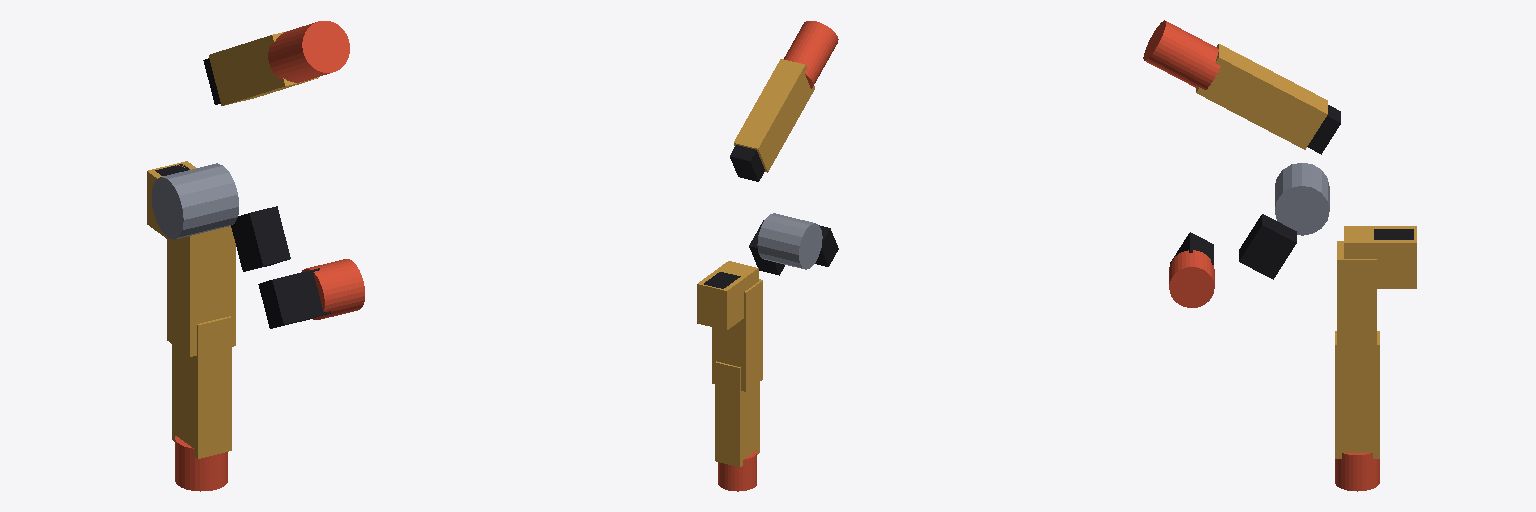
robot.urdf — g0012_c09:
<robot name="g0012_c09">
  <link name="palm">
    <visual name="palm_palm1">
      <origin xyz="0 0 0" rpy="0 0 0" />
      <geometry>
        <mesh filename="palm_palm1.obj" />
      </geometry>
      <material name="palm_palm1_mat">
        <color rgba="0.55 0.57 0.62 1" />
      </material>
    </visual>
    <collision>
      <origin xyz="0 0 0" rpy="0 0 0" />
      <geometry>
        <mesh filename="palm_palm1.obj" />
      </geometry>
    </collision>
    <visual name="palm_mount2">
      <origin xyz="0 0 0" rpy="0 0 0" />
      <geometry>
        <mesh filename="palm_mount2.obj" />
      </geometry>
      <material name="palm_mount2_mat">
        <color rgba="0.55 0.57 0.62 1" />
      </material>
    </visual>
    <collision>
      <origin xyz="0 0 0" rpy="0 0 0" />
      <geometry>
        <mesh filename="palm_mount2.obj" />
      </geometry>
    </collision>
    <visual name="palm_hinge3">
      <origin xyz="0 -0.024910254 -0.0231458256" rpy="1.57079633 -0.523598776 -1.57079633" />
      <geometry>
        <box size="0.029 0.034 0.02" />
      </geometry>
      <material name="palm_hinge3_mat">
        <color rgba="0.15 0.15 0.17 1" />
      </material>
    </visual>
    <collision>
      <origin xyz="0 -0.024910254 -0.0231458256" rpy="1.57079633 -0.523598776 -1.57079633" />
      <geometry>
        <box size="0.029 0.034 0.02" />
      </geometry>
    </collision>
    <visual name="palm_motor4">
      <origin xyz="0 0.00649519053 0.07625" rpy="-1.57079633 -1.04719755 1.57079633" />
      <geometry>
        <box size="0.029 0.034 0.02" />
      </geometry>
      <material name="palm_motor4_mat">
        <color rgba="0.15 0.15 0.17 1" />
      </material>
    </visual>
    <collision>
      <origin xyz="0 0.00649519053 0.07625" rpy="-1.57079633 -1.04719755 1.57079633" />
      <geometry>
        <box size="0.029 0.034 0.02" />
      </geometry>
    </collision>
    <visual name="palm_motor5">
      <origin xyz="-0.0045 0.0665 -0.0325" rpy="1.57079633 1.2246468e-16 -1.57079633" />
      <geometry>
        <box size="0.029 0.034 0.02" />
      </geometry>
      <material name="palm_motor5_mat">
        <color rgba="0.15 0.15 0.17 1" />
      </material>
    </visual>
    <collision>
      <origin xyz="-0.0045 0.0665 -0.0325" rpy="1.57079633 1.2246468e-16 -1.57079633" />
      <geometry>
        <box size="0.029 0.034 0.02" />
      </geometry>
    </collision>
    <inertial>
      <origin xyz="4.24683515e-19 0.013444417 0.0118964191" rpy="1.57079633 0.889539426 1.57079633" />
      <mass value="0.581730318" />
      <inertia ixx="0.000541225816" ixy="0" ixz="0" iyy="0.000952053496" iyz="0" izz="0.0014374332" />
    </inertial>
  </link>
  <link name="palm0">
    <visual name="palm0_palm1">
      <origin xyz="0 0 0" rpy="0 0 0" />
      <geometry>
        <mesh filename="palm0_palm1.obj" />
      </geometry>
      <material name="palm0_palm1_mat">
        <color rgba="0.55 0.57 0.62 1" />
      </material>
    </visual>
    <collision>
      <origin xyz="0 0 0" rpy="0 0 0" />
      <geometry>
        <mesh filename="palm0_palm1.obj" />
      </geometry>
    </collision>
    <visual name="palm0_motor2">
      <origin xyz="-0.007 -0.051339746 -0.0103589838" rpy="1.06057524e-16 -1.04719755 1.57079633" />
      <geometry>
        <box size="0.029 0.034 0.02" />
      </geometry>
      <material name="palm0_motor2_mat">
        <color rgba="0.15 0.15 0.17 1" />
      </material>
    </visual>
    <collision>
      <origin xyz="-0.007 -0.051339746 -0.0103589838" rpy="1.06057524e-16 -1.04719755 1.57079633" />
      <geometry>
        <box size="0.029 0.034 0.02" />
      </geometry>
    </collision>
    <inertial>
      <origin xyz="3.28249081e-20 -0.0268354822 -0.0111418856" rpy="1.57079633 0.206041015 1.57079633" />
      <mass value="0.117598995" />
      <inertia ixx="1.97462929e-05" ixy="0" ixz="0" iyy="6.92094895e-05" iyz="0" izz="7.7666279e-05" />
    </inertial>
  </link>
  <link name="f0_link0">
    <visual name="f0_link0_link1">
      <origin xyz="0.019 0 -6.9388939e-18" rpy="-1.57079633 -0 -1.57079633" />
      <geometry>
        <cylinder radius="0.0165" length="0.029" />
      </geometry>
      <material name="f0_link0_link1_mat">
        <color rgba="0.85 0.35 0.25 1" />
      </material>
    </visual>
    <collision>
      <origin xyz="0.019 0 -6.9388939e-18" rpy="-1.57079633 -0 -1.57079633" />
      <geometry>
        <cylinder radius="0.0165" length="0.029" />
      </geometry>
    </collision>
    <inertial>
      <origin xyz="0.019 0 0" rpy="0 0 0" />
      <mass value="0.0763354" />
      <inertia ixx="9.49466441e-06" ixy="0" ixz="0" iyy="2.24143997e-05" iyz="0" izz="2.24143997e-05" />
    </inertial>
  </link>
  <link name="f1_link0">
    <visual name="f1_link0_link1">
      <origin xyz="0.03375 0 0" rpy="0 7.03853194e-17 0" />
      <geometry>
        <box size="0.0915 0.024 0.033" />
      </geometry>
      <material name="f1_link0_link1_mat">
        <color rgba="0.80 0.62 0.30 1" />
      </material>
    </visual>
    <collision>
      <origin xyz="0.03375 0 0" rpy="0 7.03853194e-17 0" />
      <geometry>
        <box size="0.0915 0.024 0.033" />
      </geometry>
    </collision>
    <inertial>
      <origin xyz="0.03375 0 0" rpy="0 0 0" />
      <mass value="0.126819" />
      <inertia ixx="1.75961363e-05" ixy="0" ixz="0" iyy="9.99888553e-05" iyz="0" izz="9.45673431e-05" />
    </inertial>
  </link>
  <link name="f1_link1">
    <visual name="f1_link1_link1">
      <origin xyz="0.029 0 -6.9388939e-18" rpy="-1.57079633 -0 -1.57079633" />
      <geometry>
        <cylinder radius="0.0165" length="0.049" />
      </geometry>
      <material name="f1_link1_link1_mat">
        <color rgba="0.85 0.35 0.25 1" />
      </material>
    </visual>
    <collision>
      <origin xyz="0.029 0 -6.9388939e-18" rpy="-1.57079633 -0 -1.57079633" />
      <geometry>
        <cylinder radius="0.0165" length="0.049" />
      </geometry>
    </collision>
    <inertial>
      <origin xyz="0.029 0 0" rpy="0 0 0" />
      <mass value="0.106270851" />
      <inertia ixx="1.35696277e-05" ixy="0" ixz="0" iyy="5.30015704e-05" iyz="0" izz="5.30015704e-05" />
    </inertial>
  </link>
  <link name="f2_link0">
    <visual name="f2_link0_link1">
      <origin xyz="-0.00625 0 -0.0165" rpy="0 -0 0" />
      <geometry>
        <box size="0.0365 0.029 0.053" />
      </geometry>
      <material name="f2_link0_link1_mat">
        <color rgba="0.80 0.62 0.30 1" />
      </material>
    </visual>
    <collision>
      <origin xyz="-0.00625 0 -0.0165" rpy="0 -0 0" />
      <geometry>
        <box size="0.0365 0.029 0.053" />
      </geometry>
    </collision>
    <inertial>
      <origin xyz="-0.00625 0 -0.0165" rpy="0 0 0" />
      <mass value="0.098175875" />
      <inertia ixx="2.98618286e-05" ixy="0" ixz="0" iyy="3.38809035e-05" iyz="0" izz="1.778006e-05" />
    </inertial>
  </link>
  <link name="f2_link1">
    <visual name="f2_link1_link1">
      <origin xyz="0.03375 0 -6.9388939e-18" rpy="0 -0 0" />
      <geometry>
        <box size="0.0915 0.033 0.029" />
      </geometry>
      <material name="f2_link1_link1_mat">
        <color rgba="0.80 0.62 0.30 1" />
      </material>
    </visual>
    <collision>
      <origin xyz="0.03375 0 -6.9388939e-18" rpy="0 -0 0" />
      <geometry>
        <box size="0.0915 0.033 0.029" />
      </geometry>
    </collision>
    <inertial>
      <origin xyz="0.03375 0 0" rpy="0 0 0" />
      <mass value="0.153239625" />
      <inertia ixx="2.46460397e-05" ixy="0" ixz="0" iyy="0.000117652915" iyz="0" izz="0.000120819867" />
    </inertial>
  </link>
  <link name="f2_link2">
    <visual name="f2_link2_link1">
      <origin xyz="0.03375 0 0" rpy="0 -0 0" />
      <geometry>
        <box size="0.0915 0.024 0.033" />
      </geometry>
      <material name="f2_link2_link1_mat">
        <color rgba="0.80 0.62 0.30 1" />
      </material>
    </visual>
    <collision>
      <origin xyz="0.03375 0 0" rpy="0 -0 0" />
      <geometry>
        <box size="0.0915 0.024 0.033" />
      </geometry>
    </collision>
    <inertial>
      <origin xyz="0.03375 0 0" rpy="0 0 0" />
      <mass value="0.126819" />
      <inertia ixx="1.75961363e-05" ixy="0" ixz="0" iyy="9.99888553e-05" iyz="0" izz="9.45673431e-05" />
    </inertial>
  </link>
  <link name="f2_link3">
    <visual name="f2_link3_link1">
      <origin xyz="0.019 0 0" rpy="-1.57079633 -0 -1.57079633" />
      <geometry>
        <cylinder radius="0.0165" length="0.029" />
      </geometry>
      <material name="f2_link3_link1_mat">
        <color rgba="0.85 0.35 0.25 1" />
      </material>
    </visual>
    <collision>
      <origin xyz="0.019 0 0" rpy="-1.57079633 -0 -1.57079633" />
      <geometry>
        <cylinder radius="0.0165" length="0.029" />
      </geometry>
    </collision>
    <inertial>
      <origin xyz="0.019 0 0" rpy="0 0 0" />
      <mass value="0.0763354" />
      <inertia ixx="9.49466441e-06" ixy="0" ixz="0" iyy="2.24143997e-05" iyz="0" izz="2.24143997e-05" />
    </inertial>
  </link>
  <joint name="palm0_joint" type="revolute">
    <parent link="palm" />
    <child link="palm0" />
    <origin xyz="0 -0.028660254 -0.0296410162" rpy="0 0 0" />
    <axis xyz="0 -0.866025404 0.5" />
    <limit effort="0.5" lower="-0.523598776" upper="0.523598776" velocity="5" />
    <dynamics damping="0.0775033" friction="0" />
  </joint>
  <joint name="f0_j0" type="revolute">
    <parent link="palm0" />
    <child link="f0_link0" />
    <origin xyz="0.0005 -0.051339746 -0.0103589838" rpy="1.04719755 5.30287619e-17 -3.061617e-17" />
    <axis xyz="0 1 6.123234e-17" />
    <limit effort="0.5" lower="-0.523598776" upper="0.523598776" velocity="5" />
    <dynamics damping="0.0775033" friction="0" />
  </joint>
  <joint name="f1_j0" type="revolute">
    <parent link="palm" />
    <child link="f1_link0" />
    <origin xyz="0 0 0.08" rpy="-0 -0.523598776 -1.57079633" />
    <axis xyz="0 0 1" />
    <limit effort="0.5" lower="-0.523598776" upper="1.57079633" velocity="5" />
    <dynamics damping="0.0775033" friction="0" />
  </joint>
  <joint name="f1_j1" type="revolute">
    <parent link="f1_link0" />
    <child link="f1_link1" />
    <origin xyz="0.07 0 0" rpy="0 0 0" />
    <axis xyz="0 0 1" />
    <limit effort="0.5" lower="-0.523598776" upper="1.57079633" velocity="5" />
    <dynamics damping="0.0775033" friction="0" />
  </joint>
  <joint name="f2_j0" type="revolute">
    <parent link="palm" />
    <child link="f2_link0" />
    <origin xyz="-0.0045 0.04 -0.04" rpy="1.57079633 1.57079633 0" />
    <axis xyz="0 0 1" />
    <limit effort="0.5" lower="-0.523598776" upper="1.57079633" velocity="5" />
    <dynamics damping="0.0775033" friction="0" />
  </joint>
  <joint name="f2_j1" type="revolute">
    <parent link="f2_link0" />
    <child link="f2_link1" />
    <origin xyz="0 0 0" rpy="0 0 0" />
    <axis xyz="0 1 6.123234e-17" />
    <limit effort="0.5" lower="-0.523598776" upper="0.523598776" velocity="5" />
    <dynamics damping="0.0775033" friction="0" />
  </joint>
  <joint name="f2_j2" type="revolute">
    <parent link="f2_link1" />
    <child link="f2_link2" />
    <origin xyz="0.07 0 0" rpy="0 0 0" />
    <axis xyz="0 0 1" />
    <limit effort="0.5" lower="-0.523598776" upper="1.57079633" velocity="5" />
    <dynamics damping="0.0775033" friction="0" />
  </joint>
  <joint name="f2_j3" type="revolute">
    <parent link="f2_link2" />
    <child link="f2_link3" />
    <origin xyz="0.07 0 0" rpy="0 0 0" />
    <axis xyz="0 0 1" />
    <limit effort="0.5" lower="-0.523598776" upper="1.57079633" velocity="5" />
    <dynamics damping="0.0775033" friction="0" />
  </joint>
</robot>

--- Render facts (derived) ---
Views: 3 orthographic renders of the robot side by side, from view 1: azimuth 30°, elevation 25°; view 2: azimuth 150°, elevation 25°; view 3: azimuth 270°, elevation 25°.
Model g0012_c09 with 9 links and 8 joints (8 revolute), rooted at palm, posed every joint at zero.
Visible links, largest first — view 1: palm, f2_link2, f2_link1, f1_link1, f1_link0, palm0, f0_link0, f2_link3, f2_link0; view 2: palm, f1_link0, f2_link2, f2_link1, f2_link0, f1_link1, f2_link3, palm0; view 3: palm, f1_link0, f2_link1, f2_link2, f1_link1, f2_link0, f0_link0, f2_link3, palm0.
Link boxes in pixels (x1,y1,x2,y2): palm: (151,58,290,271); f2_link2: (172,316,231,458); f2_link1: (167,226,235,356); f1_link1: (268,21,349,82); f1_link0: (209,31,318,105); palm0: (258,268,330,328); f0_link0: (302,259,364,319); f2_link3: (175,436,227,491); f2_link0: (147,161,195,238); palm: (704,145,822,288); f1_link0: (734,59,814,172); f2_link2: (715,361,759,466); f2_link1: (712,279,762,391); f2_link0: (697,261,758,330); f1_link1: (784,21,838,88); f2_link3: (718,450,756,491); palm0: (815,225,838,266); palm: (1239,105,1413,279); f1_link0: (1196,44,1327,149); f2_link1: (1337,241,1376,373); f2_link2: (1335,331,1379,458); f1_link1: (1143,20,1220,89); f2_link0: (1344,226,1416,288); f0_link0: (1169,250,1214,307); f2_link3: (1335,453,1379,491); palm0: (1170,232,1213,264).
Size in the robot's own frame: 0.086 by 0.1982 by 0.3695 metres.
1 mesh visuals loaded from 3 distinct referenced files (1 OBJ); not drawn: 2 (reference not matched to a file when rendering).
